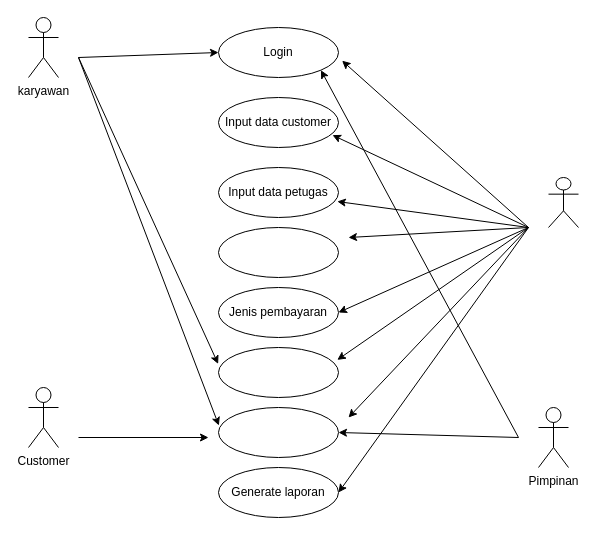
The diagram is 616 pixels wide and 535 high, and some of its shapes have lost their labels. The shapes that lost their labels are listed below. From the top down, each one's centre as x and y in pixels, then its label:
the point at 563,202: Administrator
the point at 278,252: Jenis layanan
the point at 278,372: Input transaksi
the point at 278,432: Lihat history order
